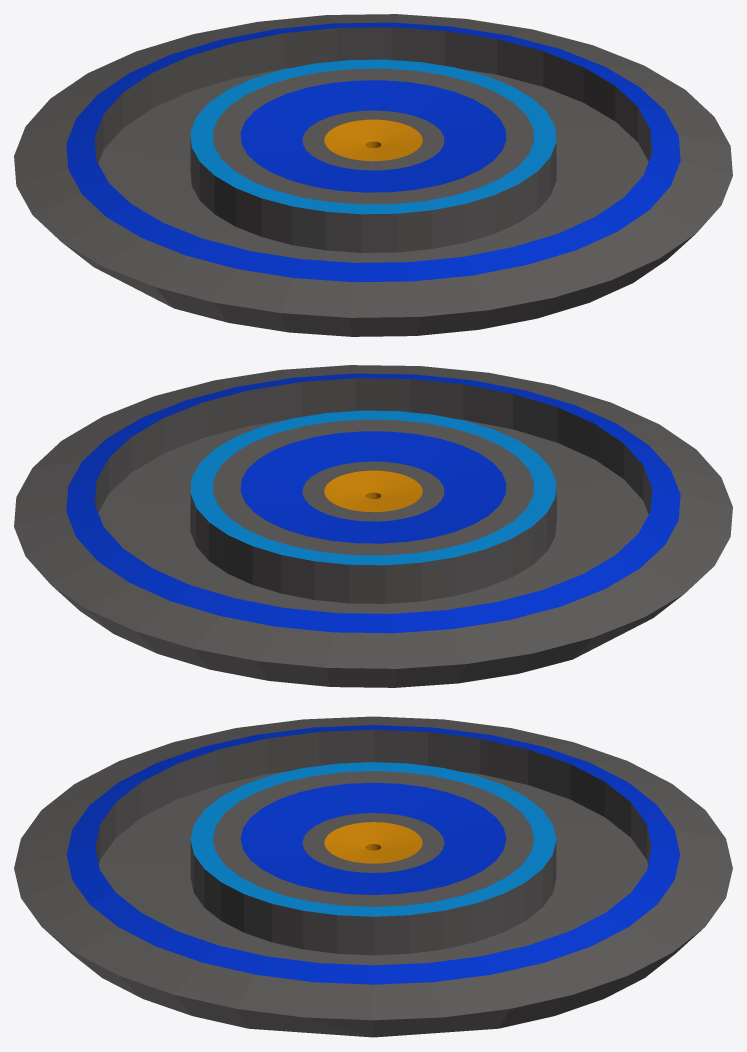
The model's file is platform 1.fbx.
The picture shows the model from 3 angles, top to bottom: view 1: azimuth 30°, elevation 25°; view 2: azimuth 150°, elevation 25°; view 3: azimuth 270°, elevation 25°; orthographic projection.
Visible parts, largest first — view 1: Circle; view 2: Circle; view 3: Circle.
Part boxes in pixels (x1,y1,x2,y2): Circle: (14,14,732,336); Circle: (14,365,732,687); Circle: (14,716,732,1037).
Bounding box in the file's own units: 400 × 38.27 × 400.
